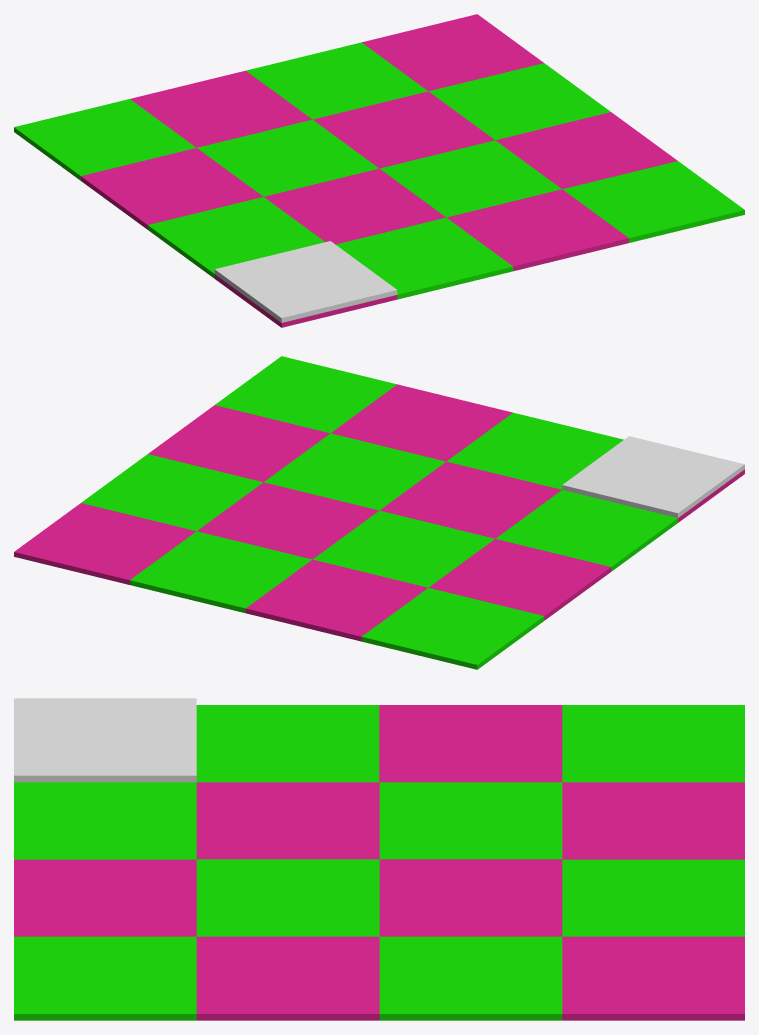
The model's file is experiment.glb.
3 views of the same model, one above another, from view 1: azimuth 30°, elevation 25°; view 2: azimuth 150°, elevation 25°; view 3: azimuth 270°, elevation 25° (orthographic). The views are drawn at different scales.
Parts seen in each view (by area): view 1: (instance: cuboid) (physics: immovable cuboid).003, single room.002, single room.010, single room.008, single room.015, single room.001, single room.006, single room.014, single room.012, single room.003, single room.007, single room.013 (+5 smaller); view 2: single room.015, (instance: cuboid) (physics: immovable cuboid).003, single room.012, single room.013, single room.014, single room.008, single room.011, single room.004, single room.010, single room.007, single room.002, single room.005 (+4 smaller); view 3: single room.003, single room.009, (instance: cuboid) (physics: immovable cuboid).003, single room.010, single room.014, single room.004, single room.006, single room.005, single room.008, single room.007, single room.011, single room.001 (+4 smaller).
Boxes of the visible parts, bbox=[...] form: (instance: cuboid) (physics: immovable cuboid).003: bbox=[214, 241, 397, 322]; single room.002: bbox=[446, 189, 628, 271]; single room.010: bbox=[562, 161, 744, 242]; single room.008: bbox=[81, 148, 263, 229]; single room.015: bbox=[14, 99, 196, 180]; single room.001: bbox=[336, 217, 513, 299]; single room.006: bbox=[313, 91, 494, 168]; single room.014: bbox=[362, 14, 543, 91]; single room.012: bbox=[130, 70, 311, 147]; single room.003: bbox=[496, 112, 677, 189]; single room.007: bbox=[197, 119, 378, 196]; single room.013: bbox=[246, 42, 427, 119]; single room.015: bbox=[361, 588, 544, 669]; (instance: cuboid) (physics: immovable cuboid).003: bbox=[562, 436, 744, 517]; single room.012: bbox=[245, 559, 427, 641]; single room.013: bbox=[130, 531, 312, 613]; single room.014: bbox=[14, 503, 196, 584]; single room.008: bbox=[429, 539, 611, 620]; single room.011: bbox=[495, 490, 677, 571]; single room.004: bbox=[264, 433, 445, 510]; single room.010: bbox=[215, 356, 396, 433]; single room.007: bbox=[313, 510, 494, 587]; single room.002: bbox=[331, 384, 512, 461]; single room.005: bbox=[380, 461, 561, 538]; single room.003: bbox=[196, 936, 379, 1020]; single room.009: bbox=[379, 936, 562, 1020]; (instance: cuboid) (physics: immovable cuboid).003: bbox=[14, 698, 196, 782]; single room.010: bbox=[14, 936, 196, 1020]; single room.014: bbox=[562, 936, 744, 1020]; single room.004: bbox=[196, 859, 379, 936]; single room.006: bbox=[379, 859, 562, 936]; single room.005: bbox=[196, 782, 379, 859]; single room.008: bbox=[379, 705, 562, 782]; single room.007: bbox=[379, 782, 562, 859]; single room.011: bbox=[196, 705, 379, 782]; single room.001: bbox=[14, 782, 196, 859].
Bounding box in the file's own units: 100 × 2 × 100.
